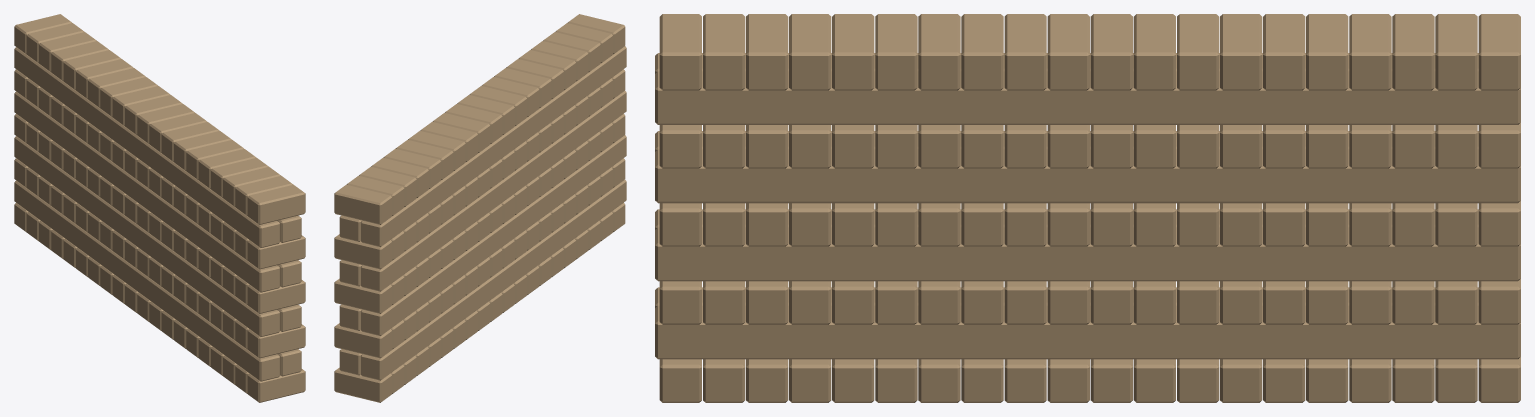
The model's file is covers_muret_goulet.glb.
The picture shows the model from 3 angles, left to right: view 1: azimuth 30°, elevation 25°; view 2: azimuth 150°, elevation 25°; view 3: azimuth 270°, elevation 25°; orthographic projection. The views are drawn at different scales.
Visible parts, largest first — view 1: covers_muret_goulet; view 2: covers_muret_goulet; view 3: covers_muret_goulet.
Boxes of the visible parts, left/top/right/bottom form: covers_muret_goulet: left=14, top=14, right=305, bottom=402; covers_muret_goulet: left=334, top=14, right=626, bottom=402; covers_muret_goulet: left=655, top=14, right=1520, bottom=402.
Bounding box in the file's own units: 0.5 × 2.01 × 4.5.
